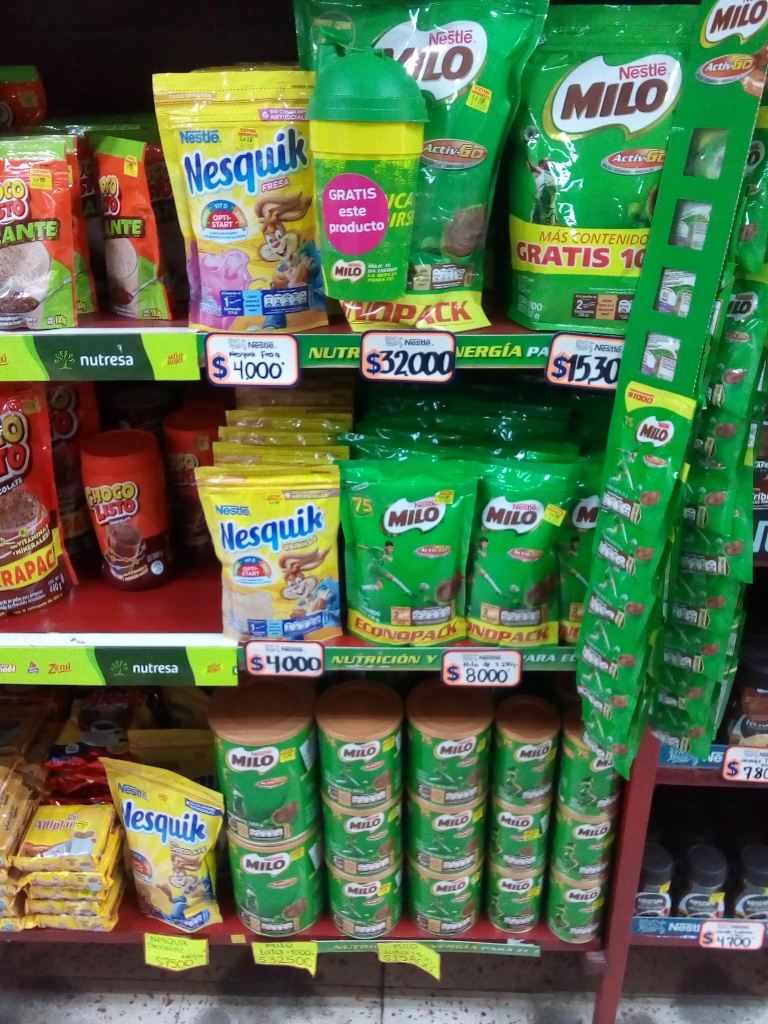COL0170102DYP10000: (1, 138, 79, 329)
COL0170103DYP44000: (0, 381, 88, 625)
COL0170103TRR30000: (76, 431, 181, 590)
COL0170203DYP25000: (337, 457, 466, 643)
COL0170203LAT20000: (549, 874, 607, 943)
COL0170203LAT40000: (325, 862, 404, 939)
COL0170305DYP20000: (149, 68, 331, 336)
COL0170306DYP20000: (187, 460, 345, 641)
